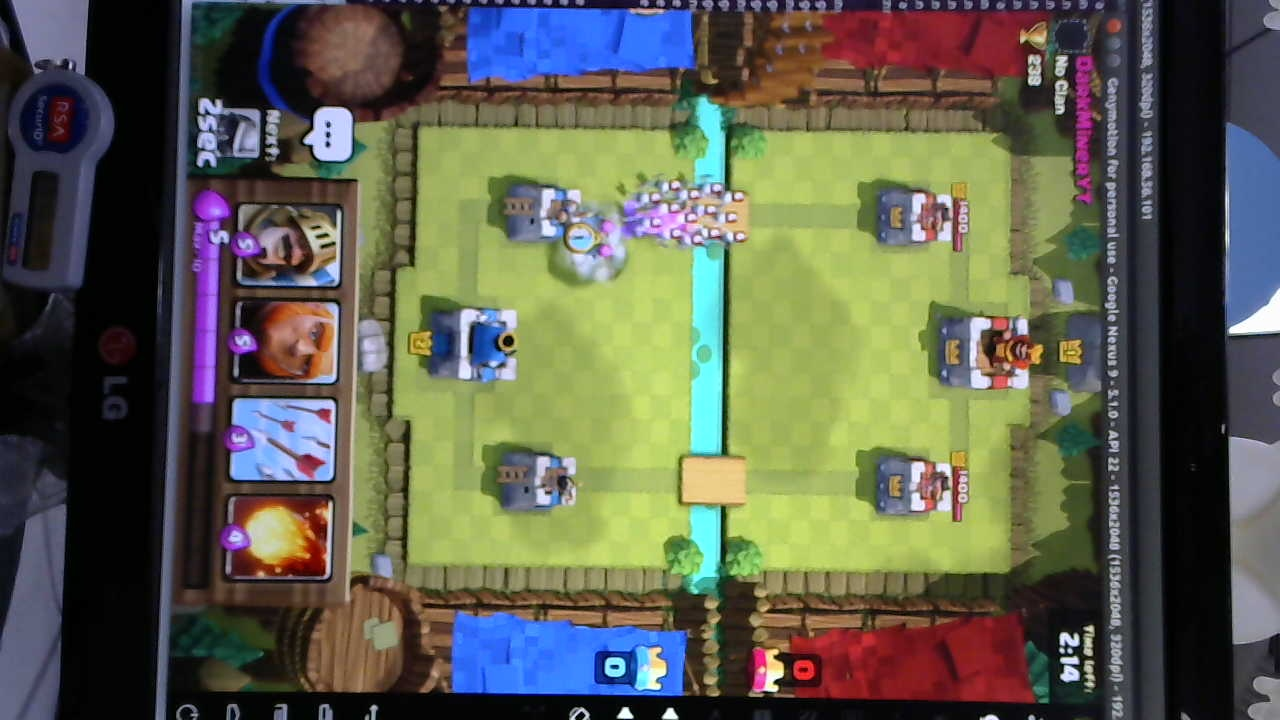archers: (567, 215, 617, 262)
